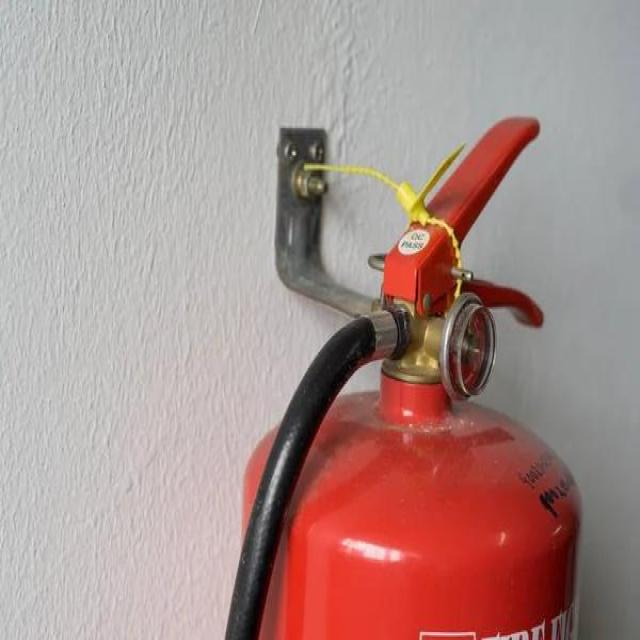fire_extinguisher: (218, 109, 588, 638)
